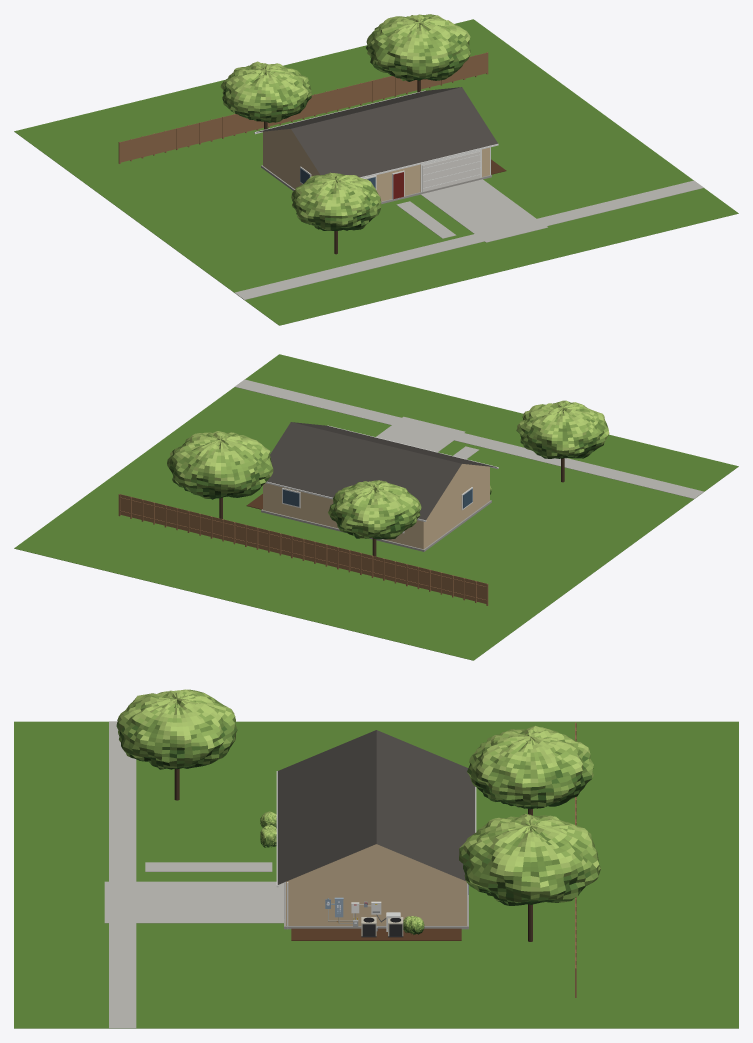
Rendered from home_11_post_install.obj.
3 renders of one model, top to bottom at view 1: azimuth 30°, elevation 25°; view 2: azimuth 150°, elevation 25°; view 3: azimuth 270°, elevation 25°, orthographic. The views are drawn at different scales.
Visible parts, largest first — view 1: yard, house, tree_2, tree_3, tree_1; view 2: yard, house, tree_2, tree_3, tree_1; view 3: yard, house, tree_2, tree_3, tree_1, mulch_bed_side.
Part boxes in pixels (left/top/right/bottom): yard: left=14, top=19, right=738, bottom=325; house: left=254, top=87, right=498, bottom=203; tree_2: left=366, top=14, right=470, bottom=92; tree_3: left=220, top=61, right=311, bottom=129; tree_1: left=291, top=172, right=381, bottom=254; yard: left=14, top=354, right=738, bottom=660; house: left=261, top=422, right=498, bottom=551; tree_2: left=167, top=431, right=273, bottom=518; tree_3: left=328, top=480, right=421, bottom=556; tree_1: left=516, top=400, right=609, bottom=482; yard: left=14, top=721, right=738, bottom=1028; house: left=276, top=730, right=476, bottom=929; tree_2: left=459, top=813, right=600, bottom=941; tree_3: left=467, top=726, right=593, bottom=815; tree_1: left=116, top=689, right=237, bottom=800; mulch_bed_side: left=291, top=928, right=461, bottom=940.
Bounding box in the file's own units: 40 × 7.12 × 40.
